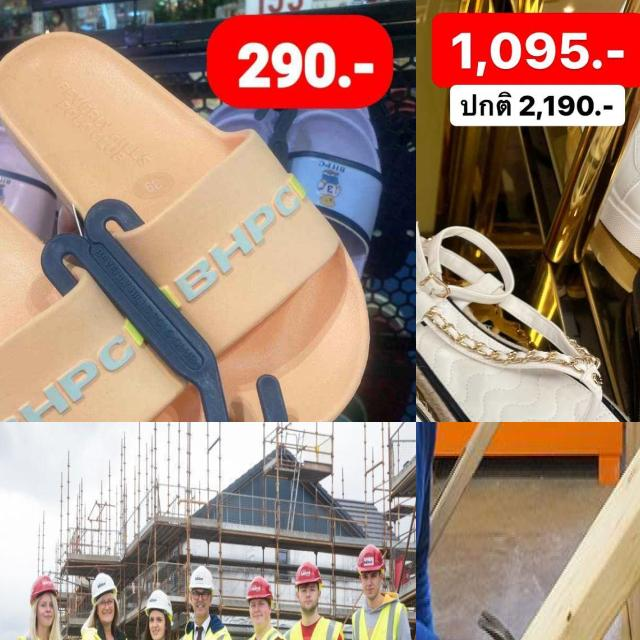Sandals: (0, 16, 390, 422), (416, 193, 640, 422), (416, 57, 471, 422)
face_nomask: (94, 594, 122, 624), (362, 570, 382, 608), (192, 588, 214, 622), (34, 597, 56, 631), (299, 584, 321, 616), (248, 602, 272, 630), (148, 608, 168, 640)
glasses: (96, 596, 114, 612), (190, 590, 212, 602)
head_helmet: (146, 588, 173, 618), (357, 544, 384, 572), (294, 560, 320, 588), (90, 572, 118, 598), (30, 574, 59, 599), (188, 564, 212, 592), (247, 576, 272, 599)
person: (349, 544, 412, 640), (284, 560, 347, 640), (74, 571, 132, 640), (180, 566, 234, 640)
vest: (350, 592, 404, 640), (283, 612, 343, 640)
